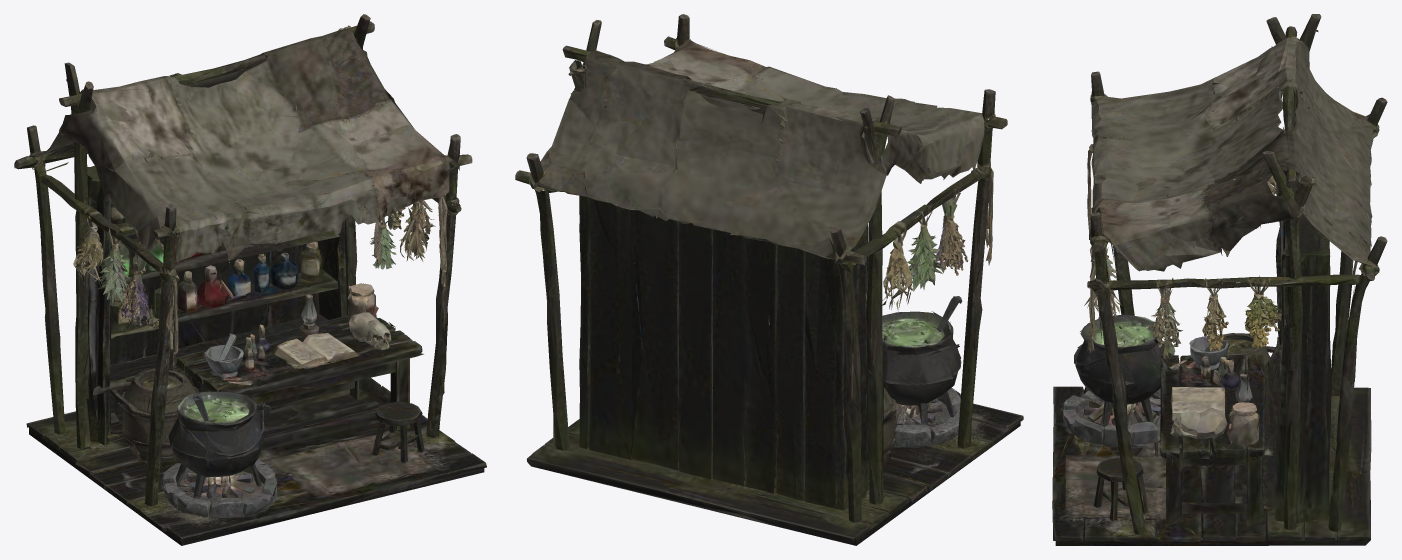
File: alchemy.glb
3 renders of one model, left to right at view 1: azimuth 30°, elevation 25°; view 2: azimuth 150°, elevation 25°; view 3: azimuth 270°, elevation 25°, orthographic. The views are drawn at different scales.
Parts seen in each view (by area): view 1: Mesh_0; view 2: Mesh_0; view 3: Mesh_0.
Boxes of the visible parts, x1,y1,x2,y2 form: Mesh_0: [14, 14, 486, 545]; Mesh_0: [515, 14, 1023, 545]; Mesh_0: [1052, 14, 1387, 545].
Bounding box in the file's own units: 2.93 × 3.3 × 2.57.
Materials: 1 (1 with a texture image).
